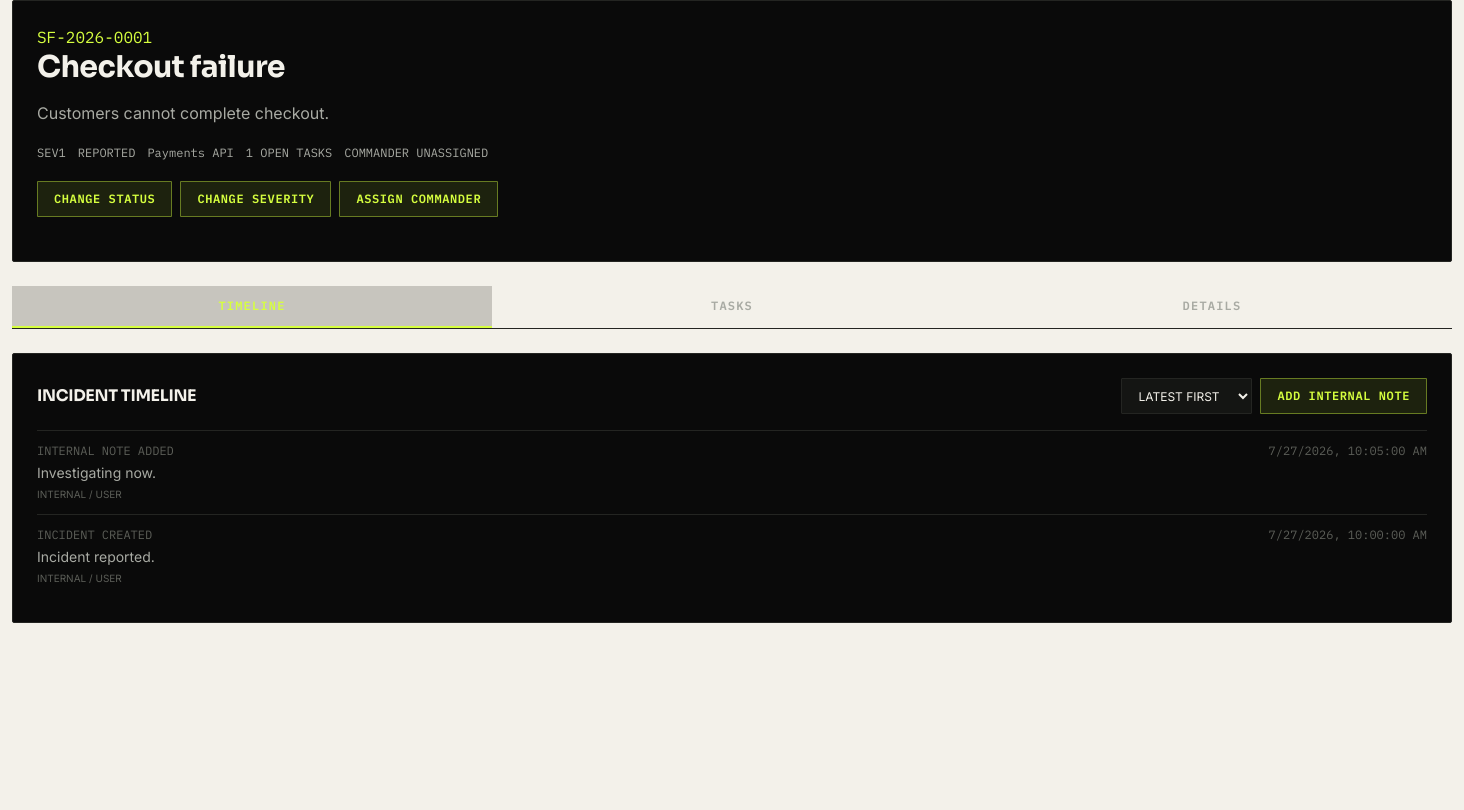
Test case: Phase 05 live coordination surfaces › does not fabricate a due time when the task DTO omits dueAt
The width and height of the screenshot is (1464, 810).
Click the tab "TASKS": click(732, 307) [492, 286, 972, 328]
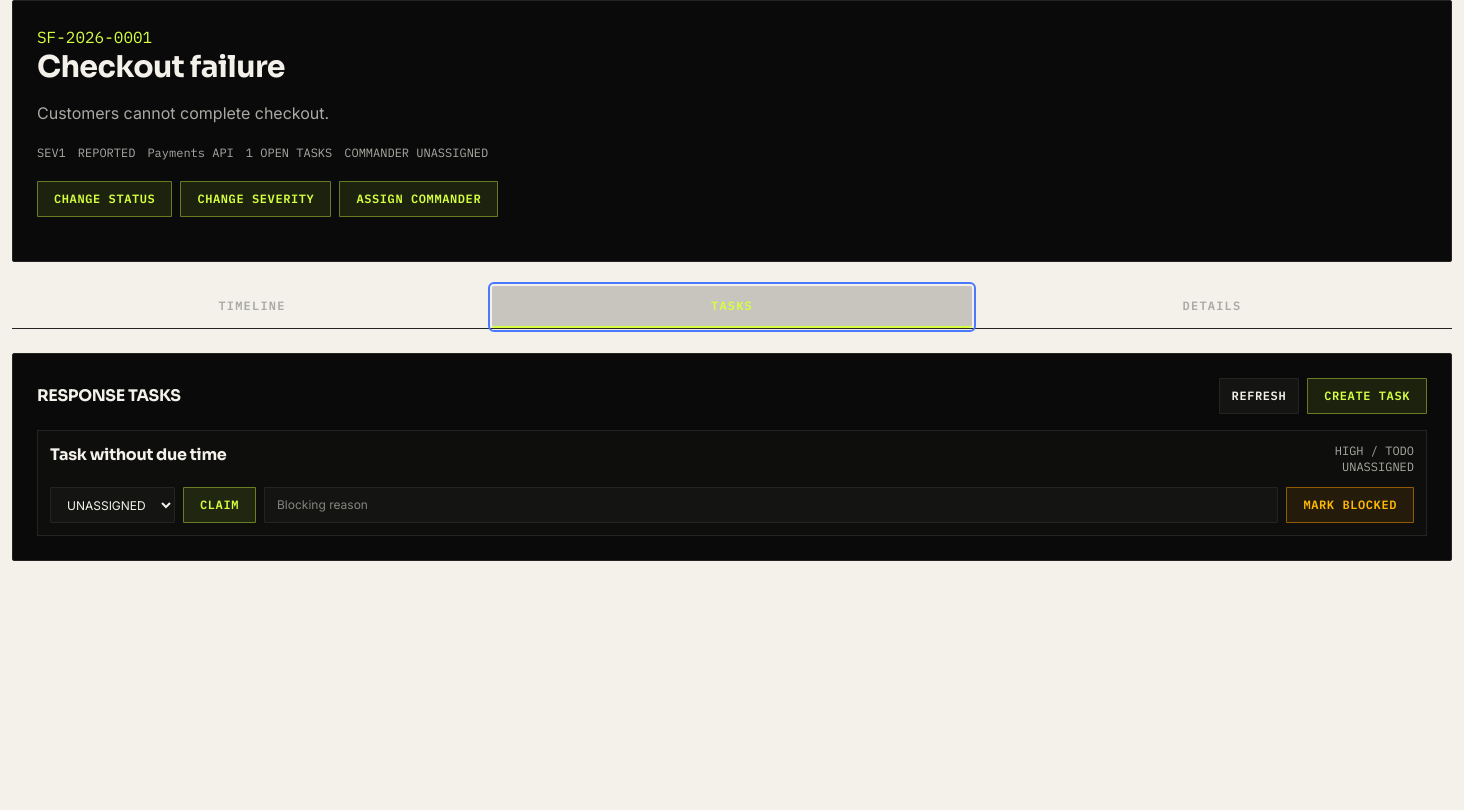
Check: the heading "Task without due time" is shown, box [50, 443, 226, 467]
